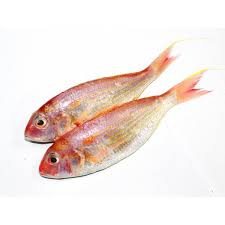Ikan Kerisi: (13, 49, 158, 145), (28, 125, 182, 187)
